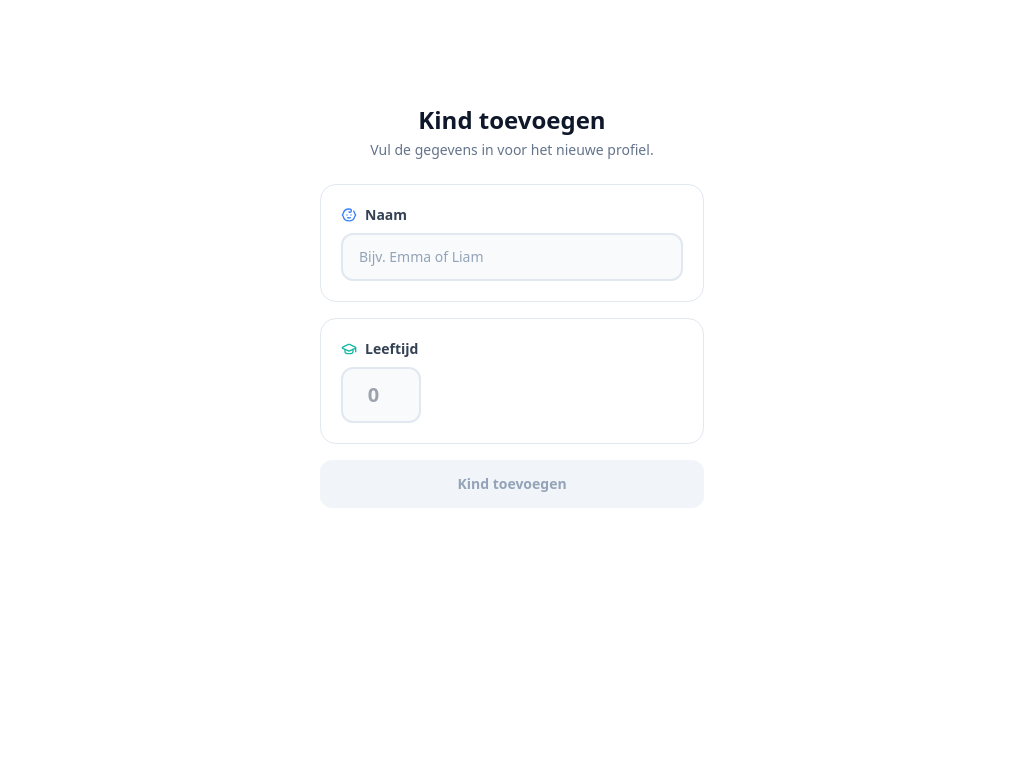
ParentAddChild › opens the subscription-limit dialog instead of a toast when the insert hits the DB limit trigger
Expected: the heading "Kind toevoegen" is shown, left=418, top=103, right=606, bottom=136
Type "Test Child" into the field with placeholder "Bijv. Emma of Liam" at [512, 257], box left=341, top=233, right=683, bottom=281
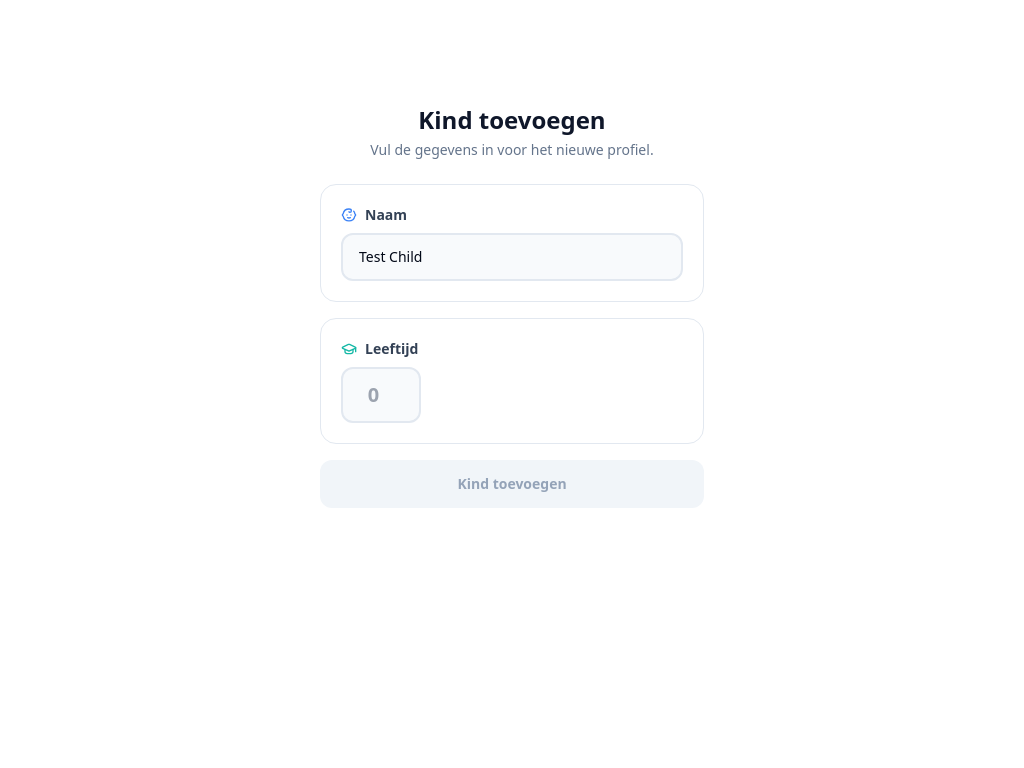
Type "8" into the number field with placeholder "0" at [381, 395], box left=341, top=367, right=421, bottom=423
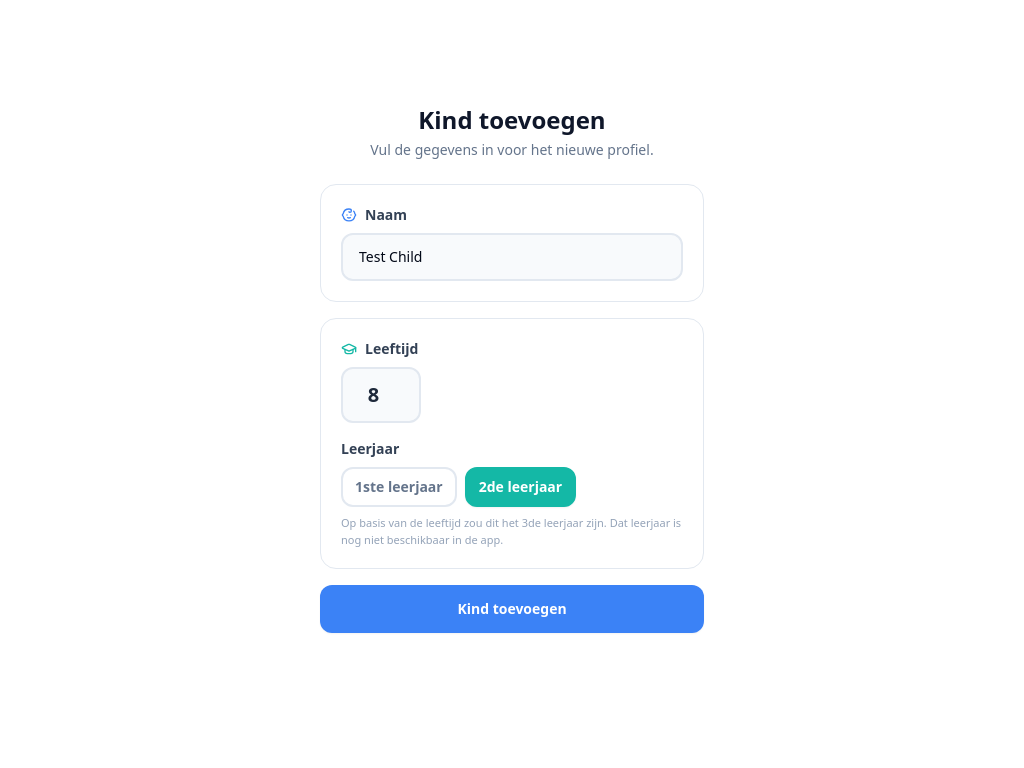
Click the button "Kind toevoegen" at [512, 609], box left=320, top=585, right=704, bottom=633
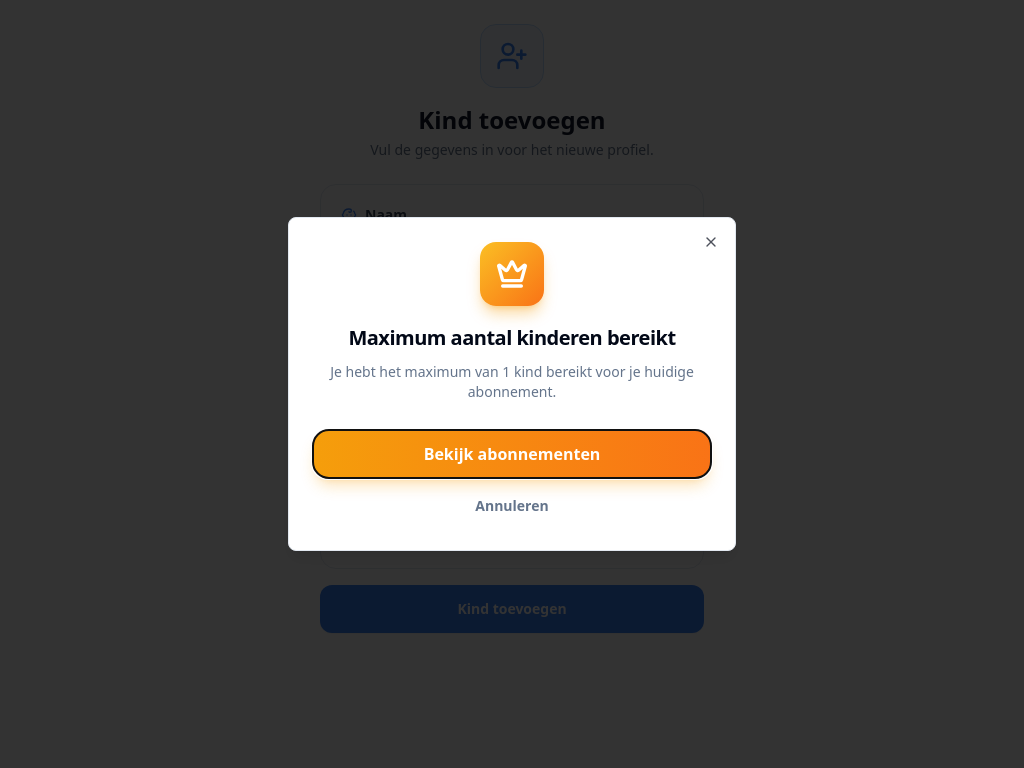
Now the text "maximum van 1 kind bereikt" is shown, box left=330, top=362, right=694, bottom=401
